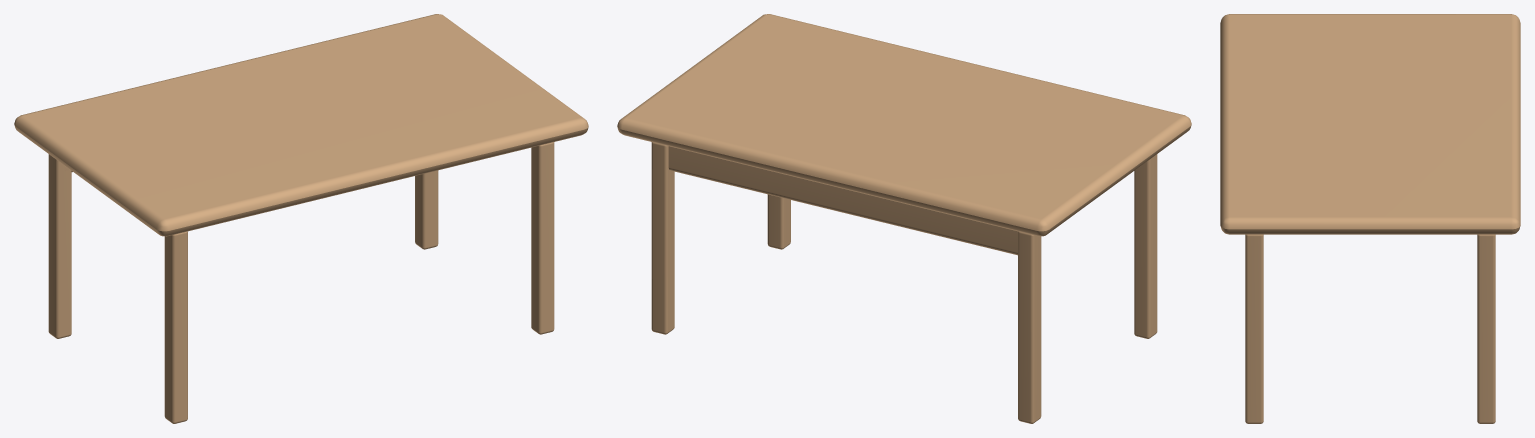
The model's file is natural-desk.glb.
The picture shows the model from 3 angles, left to right: view 1: azimuth 30°, elevation 25°; view 2: azimuth 150°, elevation 25°; view 3: azimuth 270°, elevation 25°; orthographic projection.
Parts seen in each view (by area): view 1: Top.001; view 2: Top.001; view 3: Top.001.
Boxes of the visible parts, x1,y1,x2,y2 form: Top.001: (14, 14, 588, 423); Top.001: (617, 14, 1191, 423); Top.001: (1220, 14, 1520, 423).
Size of the model in its own units: 2.4 by 1.15 by 1.45.
